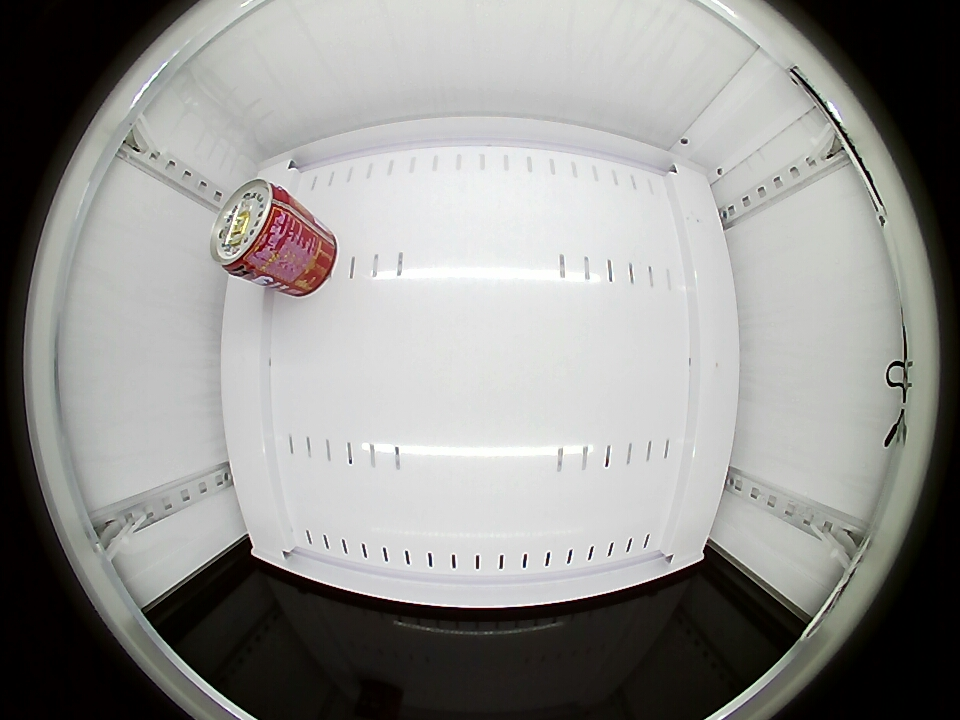wangzainiunai: (210, 178, 303, 282)
